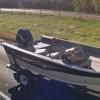Boat: (2, 31, 99, 91)
